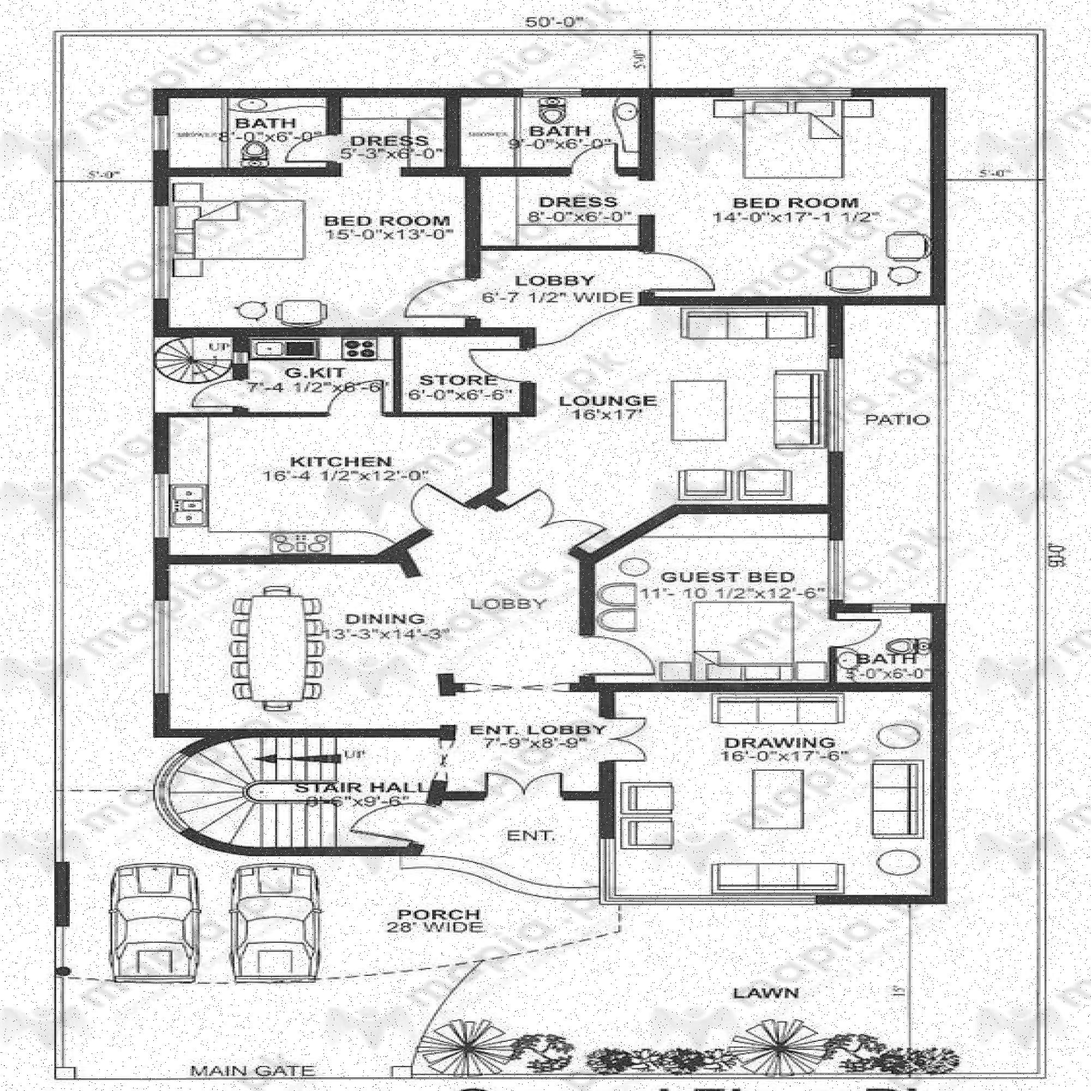wall: (376, 486, 510, 563), (153, 88, 946, 97), (485, 499, 589, 560), (580, 505, 681, 564), (154, 328, 536, 338), (599, 895, 946, 905), (569, 683, 946, 692), (931, 97, 947, 296), (152, 728, 455, 738), (932, 692, 946, 895), (829, 305, 843, 504), (153, 565, 170, 728), (639, 296, 945, 305), (153, 176, 170, 329), (400, 167, 654, 177), (153, 418, 170, 555), (154, 555, 379, 565), (407, 800, 443, 855), (153, 167, 341, 177), (580, 559, 595, 683), (429, 791, 615, 801), (245, 846, 420, 856), (674, 504, 842, 514), (599, 801, 616, 895), (599, 692, 615, 790), (153, 413, 537, 417), (464, 251, 482, 327), (232, 338, 249, 413), (829, 514, 843, 604), (637, 97, 654, 168), (444, 97, 461, 167), (465, 245, 655, 251), (325, 97, 341, 167), (465, 177, 481, 245), (520, 336, 534, 412), (153, 98, 168, 168), (932, 612, 946, 683), (493, 417, 507, 487), (830, 604, 946, 612), (179, 737, 218, 758), (393, 549, 421, 577), (639, 251, 654, 298), (393, 336, 402, 412), (829, 612, 836, 683), (639, 215, 654, 245), (439, 683, 464, 692), (440, 674, 453, 683), (440, 692, 455, 696)
